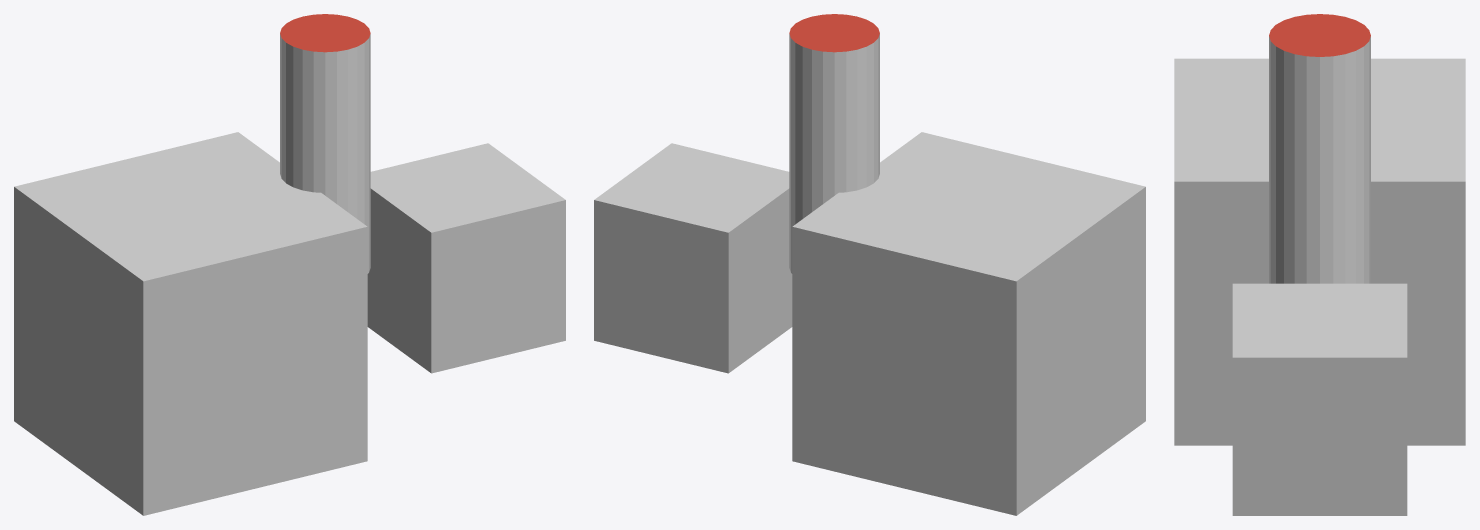
File: issue_overlay.glb
The picture shows the model from 3 angles, left to right: view 1: azimuth 30°, elevation 25°; view 2: azimuth 150°, elevation 25°; view 3: azimuth 270°, elevation 25°; orthographic projection. The views are drawn at different scales.
Parts seen in each view (by area): view 1: issue_overlay; view 2: issue_overlay; view 3: issue_overlay.
Part boxes in pixels (x1=…): issue_overlay: x1=14, y1=14, x2=565, y2=515; issue_overlay: x1=594, y1=14, x2=1145, y2=515; issue_overlay: x1=1174, y1=14, x2=1465, y2=515.
Bounding box in the file's own units: 2.6 × 2.08 × 1.3.
